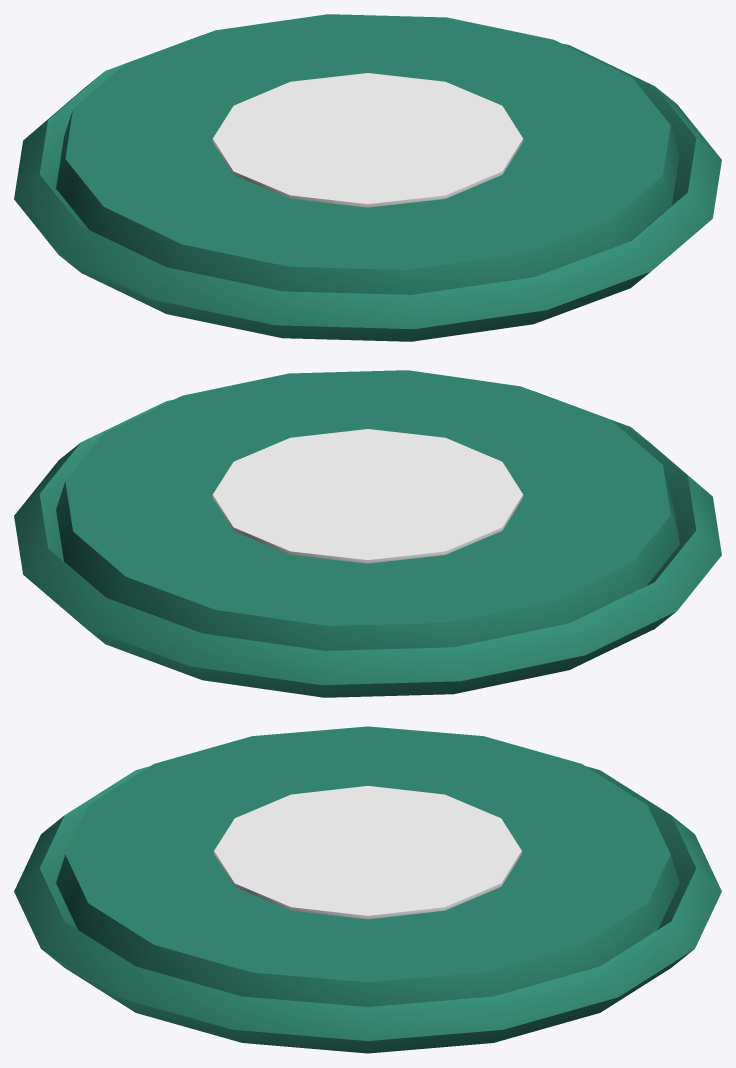
The model's file is ck_flying_disc.fbx.
3 renders of one model, top to bottom at view 1: azimuth 30°, elevation 25°; view 2: azimuth 150°, elevation 25°; view 3: azimuth 270°, elevation 25°, orthographic.
Visible parts, largest first — view 1: ck_flying_disc; view 2: ck_flying_disc; view 3: ck_flying_disc.
Part boxes in pixels (box(x1,y1,x2,y2)): ck_flying_disc: box(14, 14, 721, 341); ck_flying_disc: box(14, 370, 721, 697); ck_flying_disc: box(14, 726, 721, 1053).
Size of the model in its own units: 90 by 8.97 by 90.
